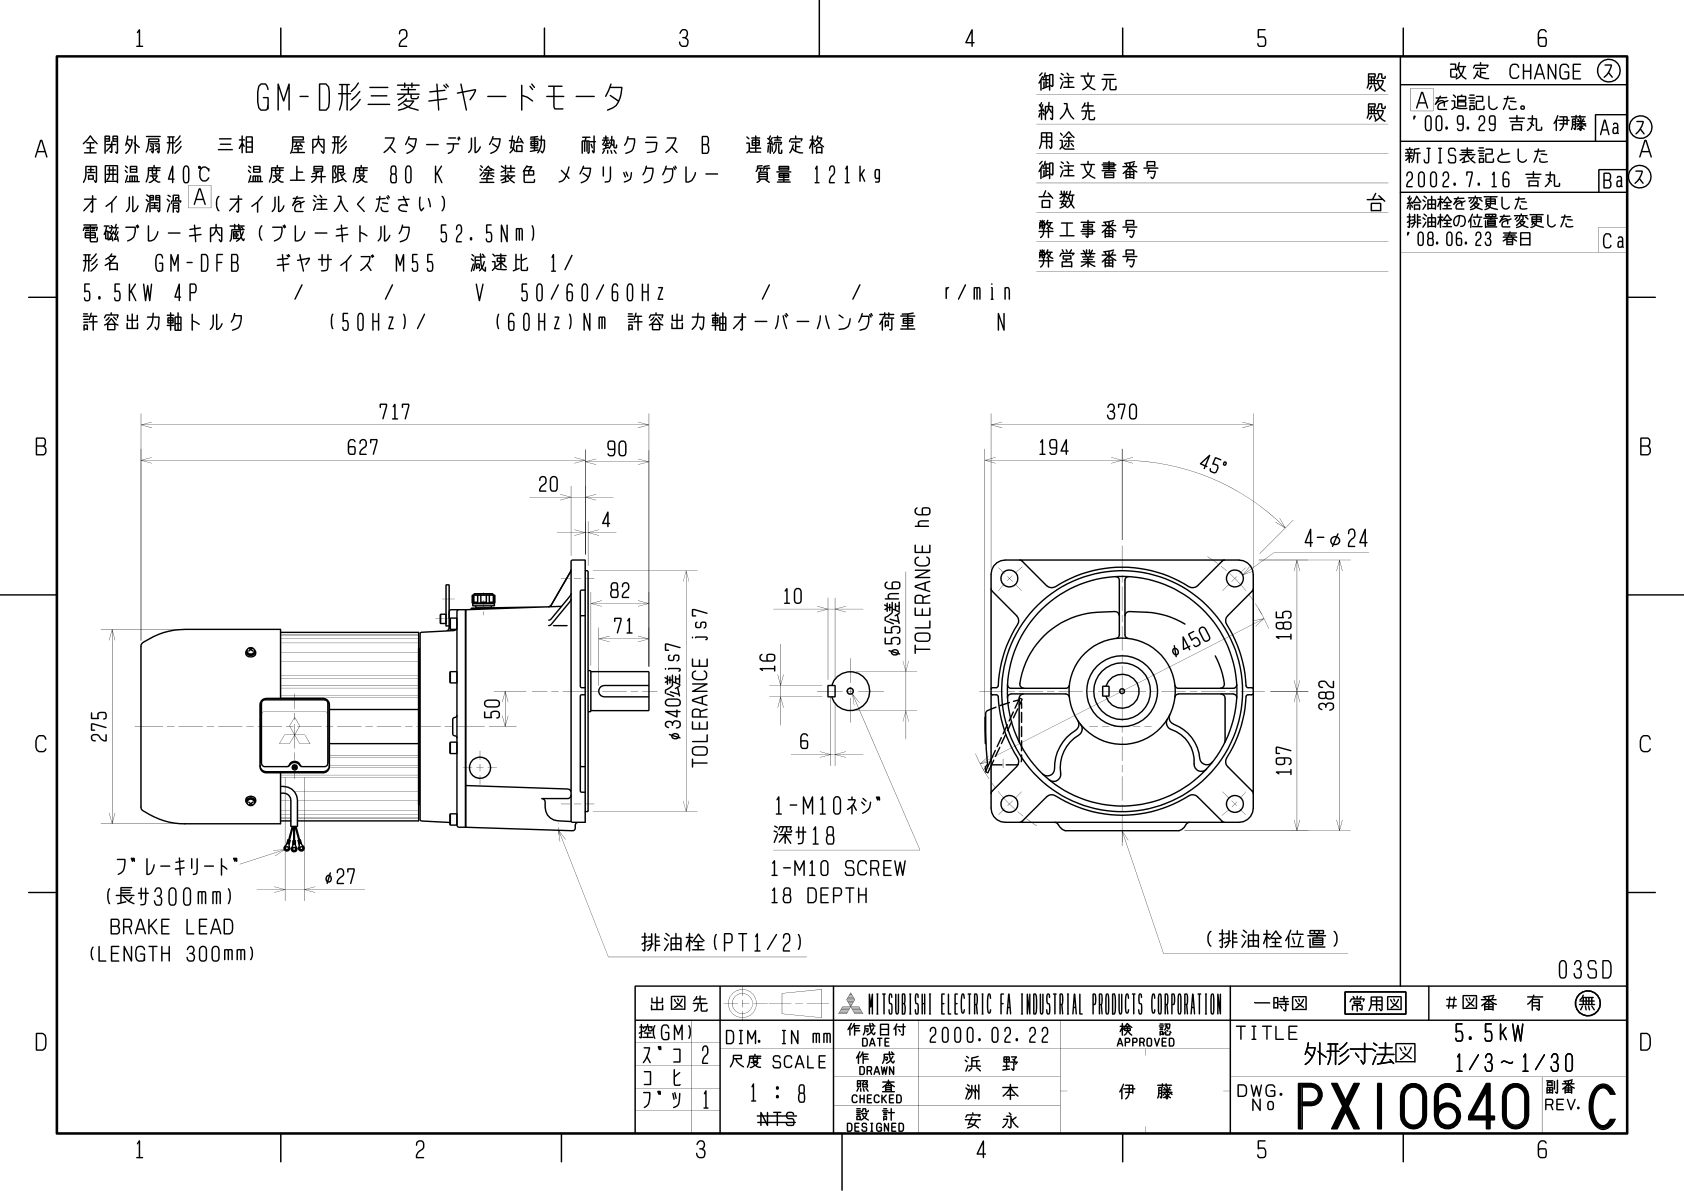GM_D_屋内＿三相_フランジ: (71, 360, 1373, 974)
